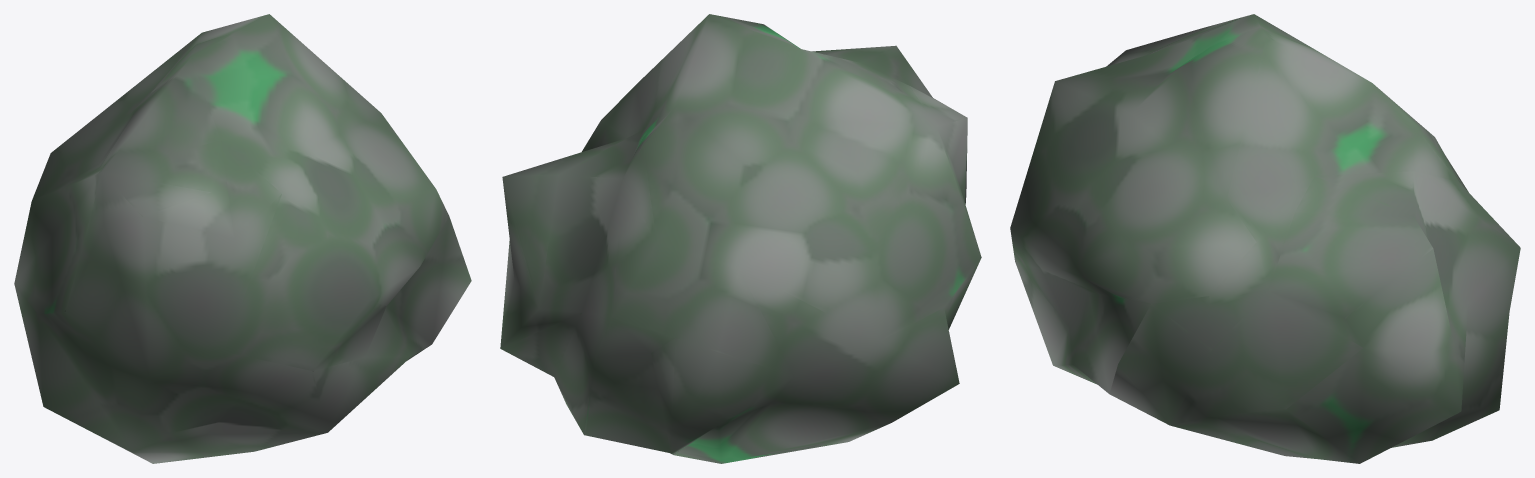
Rendered from my_mesh_rock SubTool9.glb.
3 views of the same model, side by side, from view 1: azimuth 30°, elevation 25°; view 2: azimuth 150°, elevation 25°; view 3: azimuth 270°, elevation 25° (orthographic). The views are drawn at different scales.
Parts seen in each view (by area): view 1: rock SubTool9; view 2: rock SubTool9; view 3: rock SubTool9.
Boxes of the visible parts, box(x1,y1,x2,y2) form: rock SubTool9: box(14, 14, 471, 463); rock SubTool9: box(500, 14, 981, 463); rock SubTool9: box(1010, 14, 1520, 463).
Size of the model in its own units: 5.28 by 5.14 by 5.52.
1 material, 1 textured.
